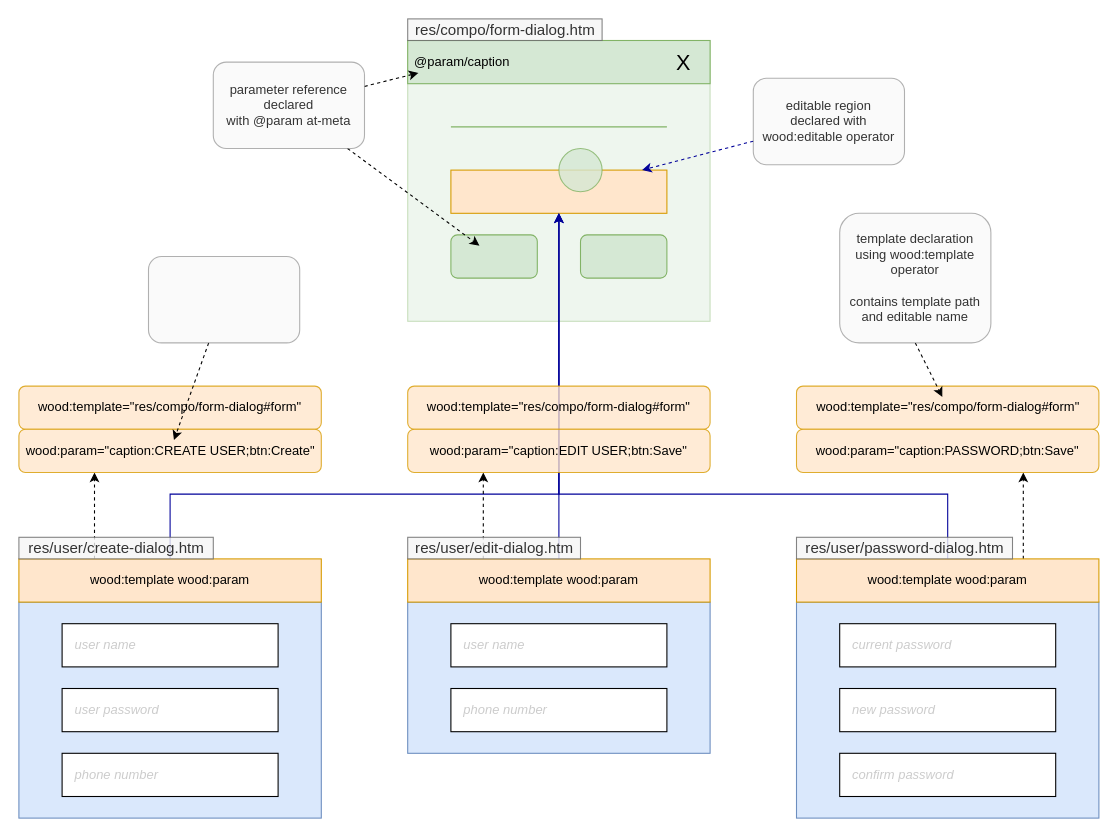
Image size: 1118x837. Some labels were removed from this diagram. Here are the shapes that lost their labels. From the top down, the box of each, then its label:
(450, 169, 667, 213): wood:editable="form"
(450, 234, 537, 278): @param/btn
(579, 234, 667, 278): Cancel
(147, 255, 300, 343): parameters definition using wood:param operator
